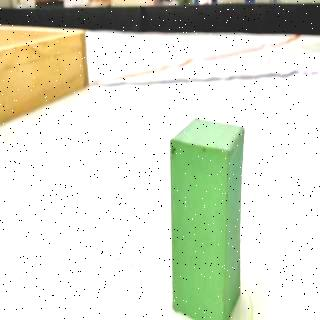greenbox: (167, 115, 246, 320)
